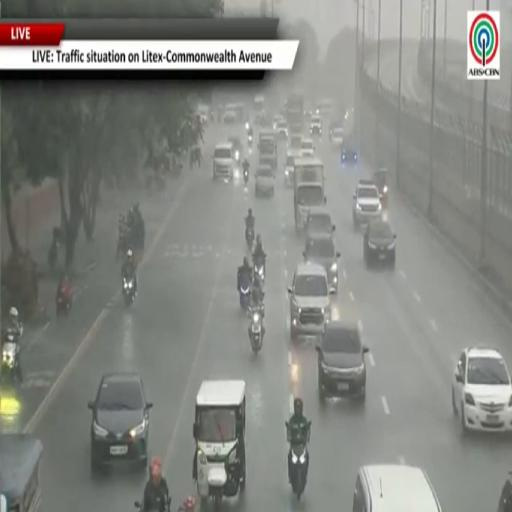car: (89, 373, 152, 472), (453, 347, 511, 431), (353, 464, 441, 511), (316, 322, 368, 401), (288, 263, 330, 340), (304, 234, 340, 293), (364, 219, 396, 268), (353, 180, 381, 229), (305, 206, 335, 236), (213, 142, 235, 179), (255, 165, 275, 196), (373, 167, 388, 207), (285, 150, 301, 187), (498, 472, 511, 511), (341, 139, 359, 165), (228, 137, 243, 163), (330, 127, 344, 148), (301, 138, 315, 157), (310, 115, 322, 137), (276, 118, 288, 140), (288, 134, 302, 151), (272, 114, 285, 131), (223, 110, 238, 123), (289, 122, 302, 135)
motorcycle: (286, 422, 311, 500), (0, 330, 22, 381), (208, 467, 227, 511), (249, 307, 264, 354), (56, 287, 72, 316), (239, 274, 250, 311), (123, 277, 135, 307), (47, 242, 58, 271), (254, 259, 265, 282), (134, 501, 153, 511), (246, 227, 254, 249), (243, 169, 248, 185), (248, 135, 253, 147)
truck: (294, 157, 326, 230), (258, 130, 277, 172), (286, 91, 304, 133), (254, 95, 265, 124)
